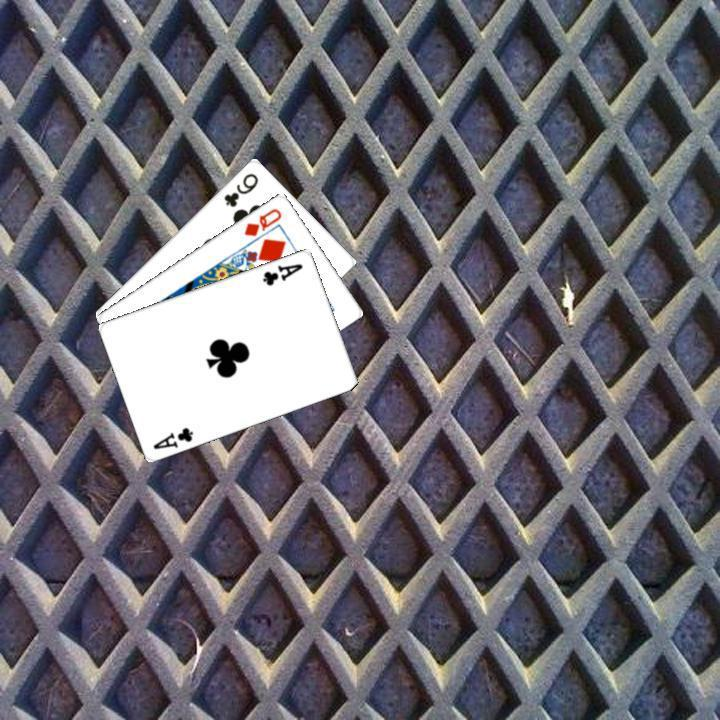9: (219, 168, 260, 209)
A: (149, 422, 195, 451), (259, 259, 305, 287)
Q: (240, 203, 284, 238)
